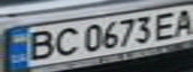0: (78, 20, 106, 53)
3: (133, 12, 157, 45)
6: (100, 18, 124, 50)
7: (115, 16, 139, 47)
A: (169, 6, 193, 37)
B: (18, 28, 57, 62)
C: (48, 25, 81, 57)
E: (151, 9, 184, 40)
